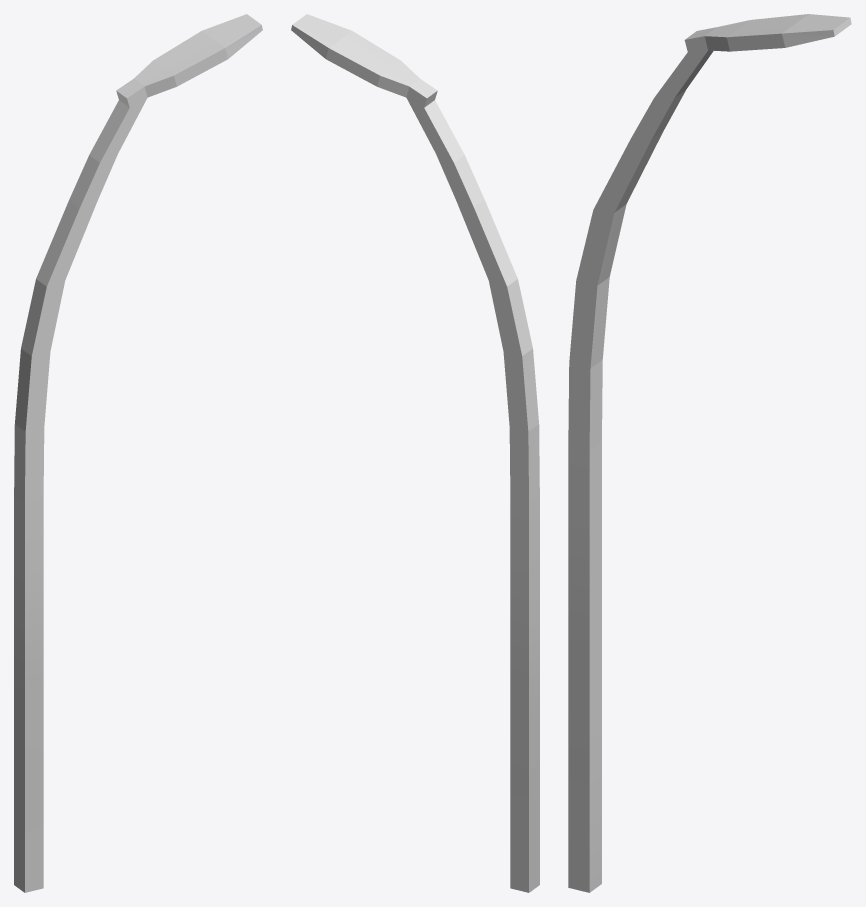
Rendered from light_1_1.dae.
The picture shows the model from 3 angles, left to right: view 1: azimuth 30°, elevation 25°; view 2: azimuth 150°, elevation 25°; view 3: azimuth 330°, elevation 25°; orthographic projection. The views are drawn at different scales.
Visible parts, largest first — view 1: light_1; view 2: light_1; view 3: light_1.
Part boxes in pixels (<box>): light_1: <box>14,14,262,892</box>; light_1: <box>291,14,539,892</box>; light_1: <box>568,14,851,892</box>.
Bounding box in the file's own units: 2.02 × 0.3488 × 6.64.
1 material, 1 textured.
